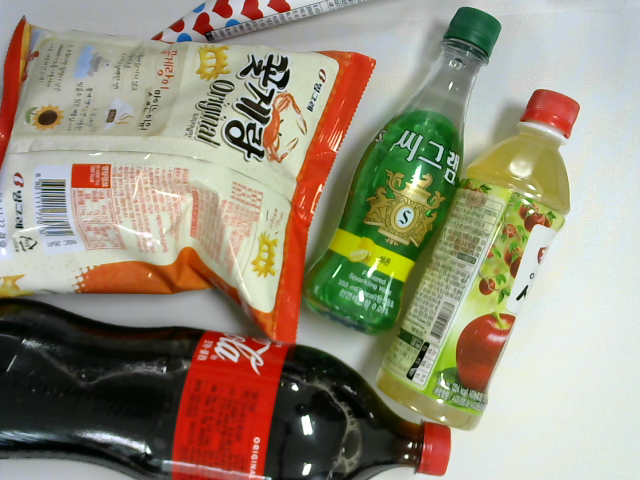Bravo_Cone_(Banila)_CVS: (117, 1, 395, 66)
Coca_Cola_1.5L: (1, 289, 464, 480)
Crabrang: (1, 15, 384, 362)
Morning_Apple_500ml: (375, 84, 590, 436)
Seagram_Lemon_Carbonated_Water: (300, 1, 511, 339)
